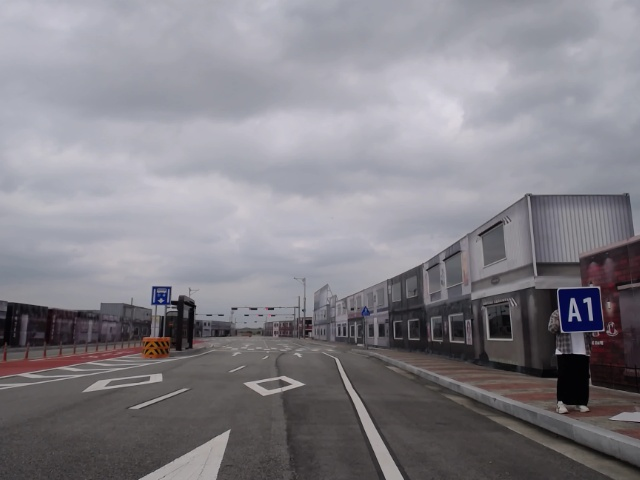delivery_a1: (557, 286, 605, 333)
